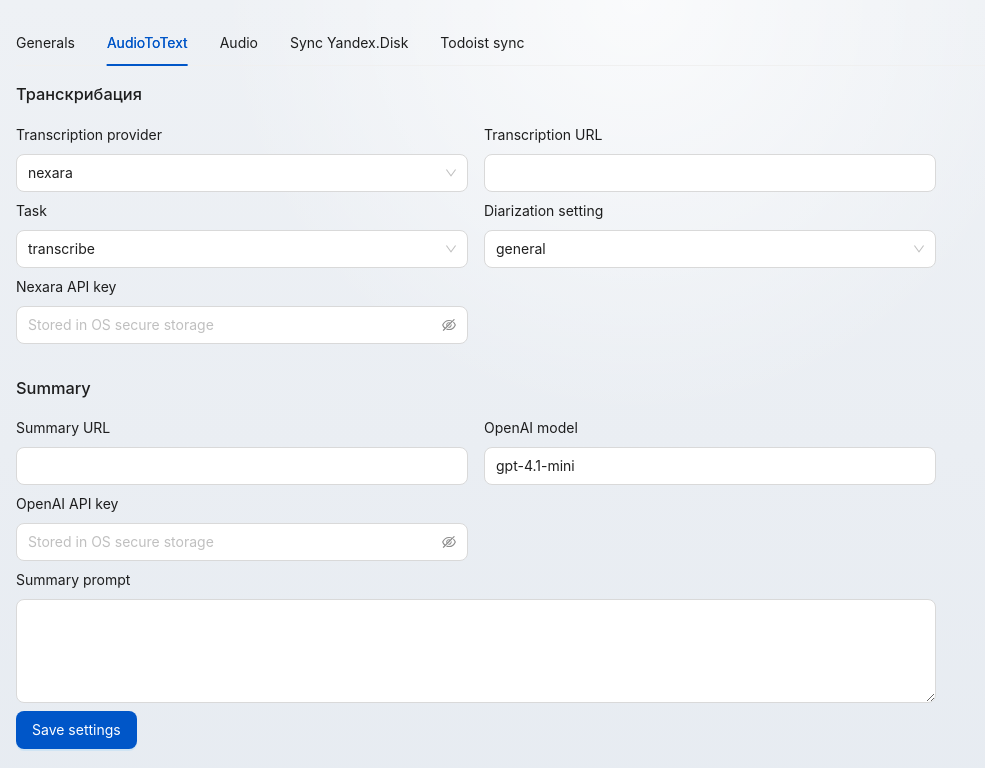
it: App settings window › keeps legacy system source controls when macOS permission status is unsupported
Click the tab "Audio".
click(239, 43)  # box [220,32,258,54]
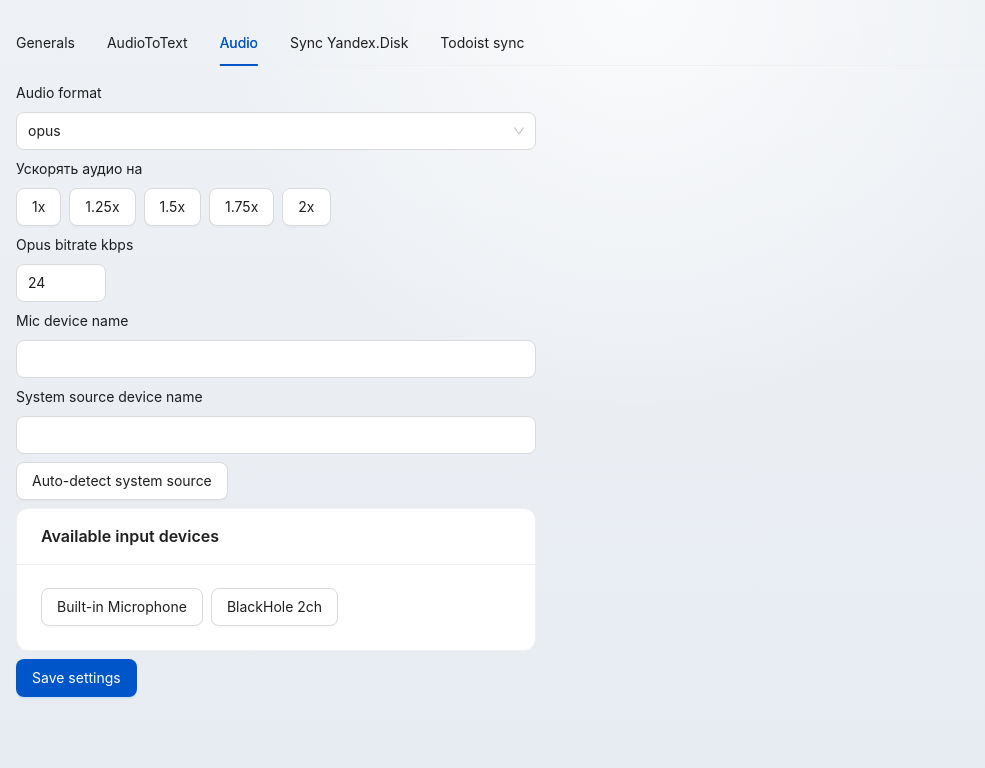
Now the field labelled "System source device name" is shown, box [16,416,536,454]
Now the button "Auto-detect system source" is shown, box [16,462,228,500]
